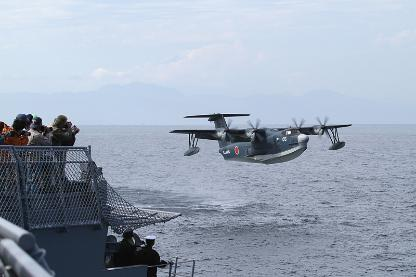Tu95: (168, 111, 352, 164)
